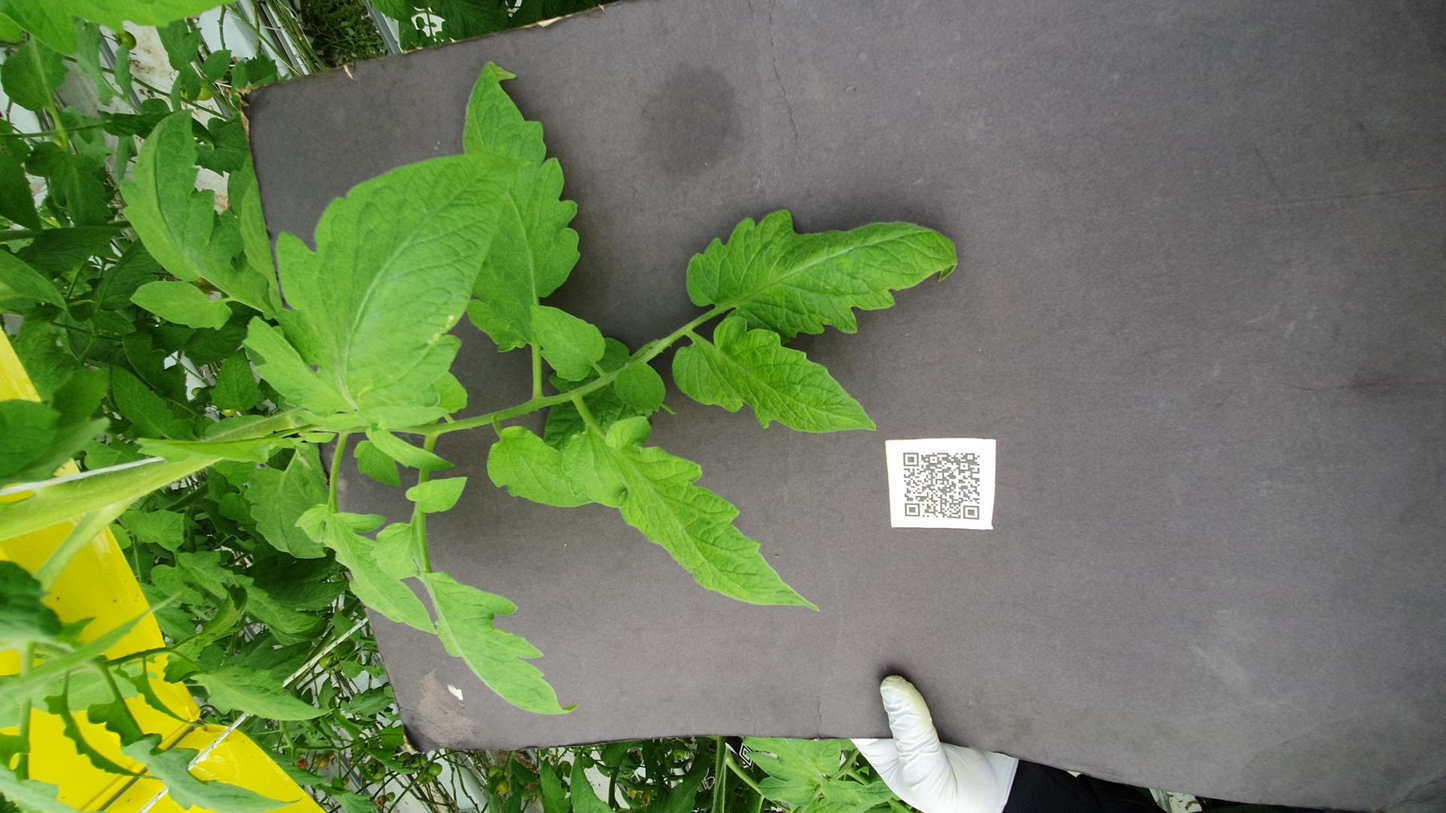Healthy: (676, 137, 1196, 281), (364, 315, 708, 461), (819, 257, 1342, 328), (857, 64, 1254, 156), (841, 385, 1075, 539), (668, 377, 887, 493), (163, 237, 429, 327), (329, 166, 552, 238), (540, 275, 692, 334), (453, 138, 620, 185), (158, 115, 259, 188), (660, 61, 797, 109), (770, 296, 904, 341), (959, 11, 1045, 70), (714, 117, 830, 150), (530, 227, 597, 264), (1295, 113, 1362, 131)
